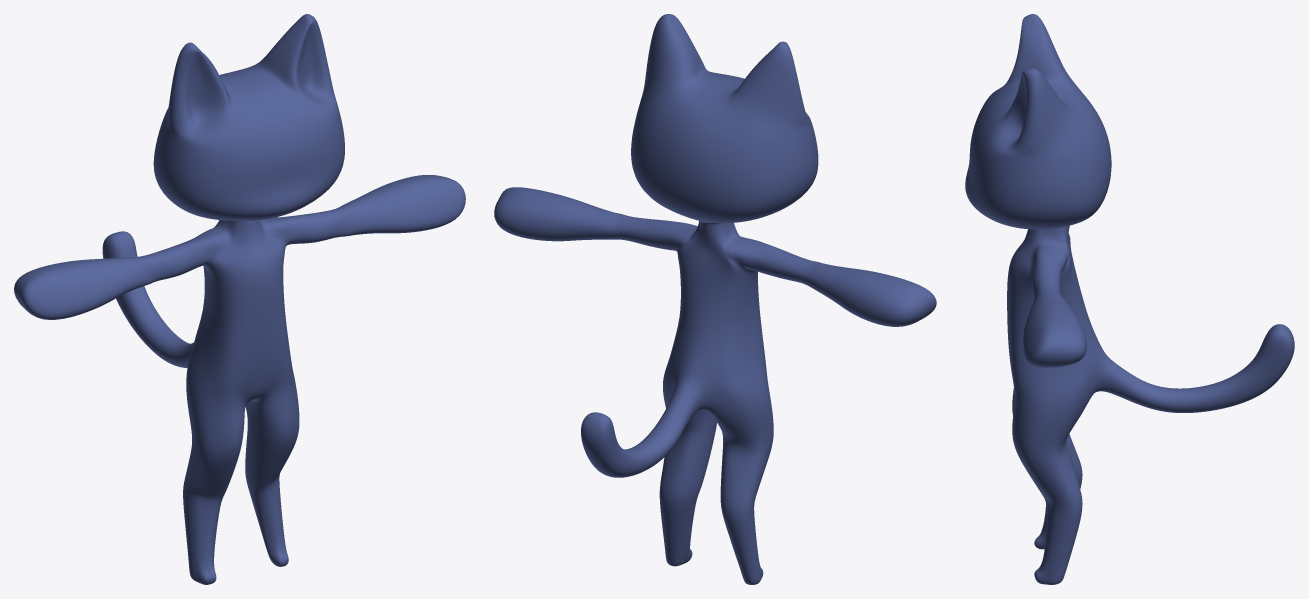
Rendered from cat6.fbx.
3 views of the same model, side by side, from view 1: azimuth 30°, elevation 25°; view 2: azimuth 150°, elevation 25°; view 3: azimuth 270°, elevation 25° (orthographic). The views are drawn at different scales.
Parts seen in each view (by area): view 1: Cube.001; view 2: Cube.001; view 3: Cube.001.
Part boxes in pixels (x1,y1,x2,y2): Cube.001: (14, 14, 465, 584); Cube.001: (494, 14, 936, 584); Cube.001: (965, 14, 1294, 584).
Size of the model in its own units: 15441 by 18393 by 10486.
